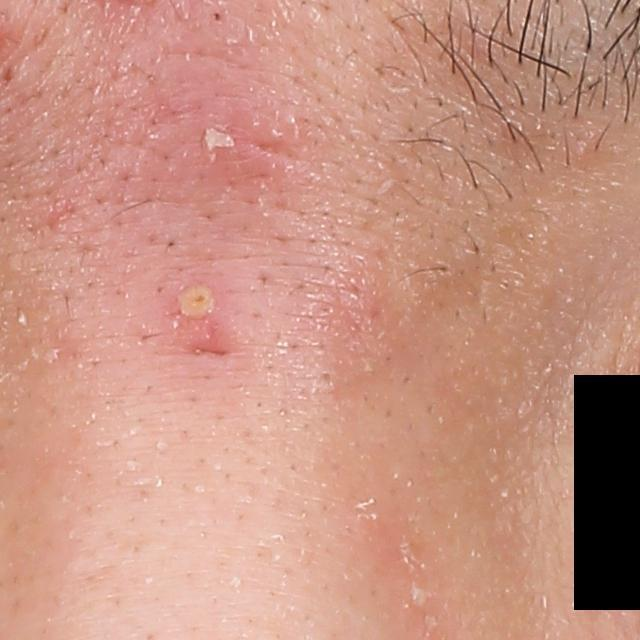pustule: (169, 269, 220, 334)
